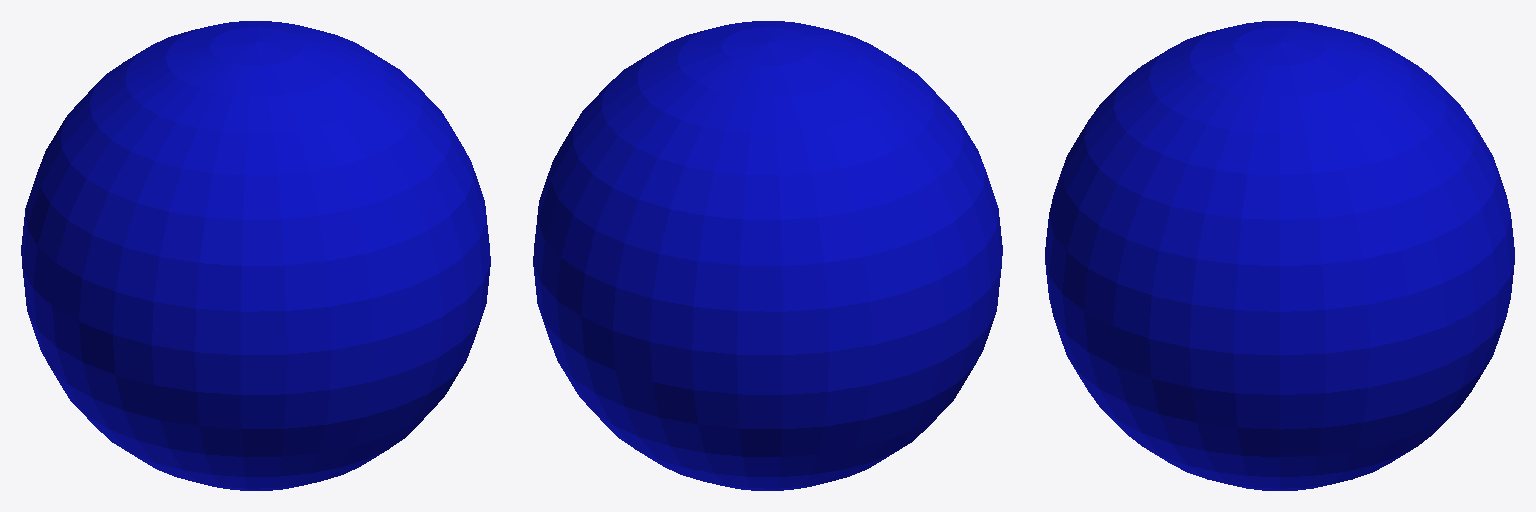
The model's file is planet.obj.
The picture shows the model from 3 angles: view 1: azimuth 30°, elevation 25°; view 2: azimuth 150°, elevation 25°; view 3: azimuth 270°, elevation 25°; orthographic projection.
Parts seen in each view (by area): view 1: Sphere; view 2: Sphere; view 3: Sphere.
Part boxes in pixels (x1,y1,x2,y2): Sphere: (21, 21, 490, 490); Sphere: (533, 21, 1002, 490); Sphere: (1045, 21, 1514, 490).
Size of the model in its own units: 2 by 2 by 2.